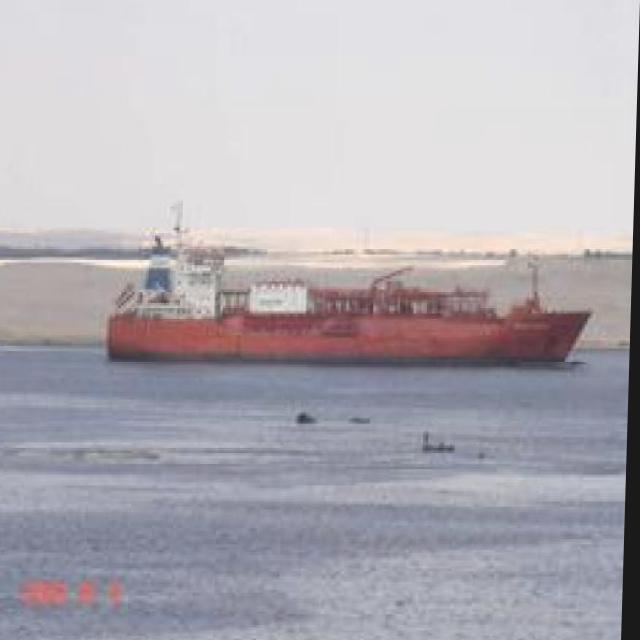ship2: (107, 205, 593, 363)
